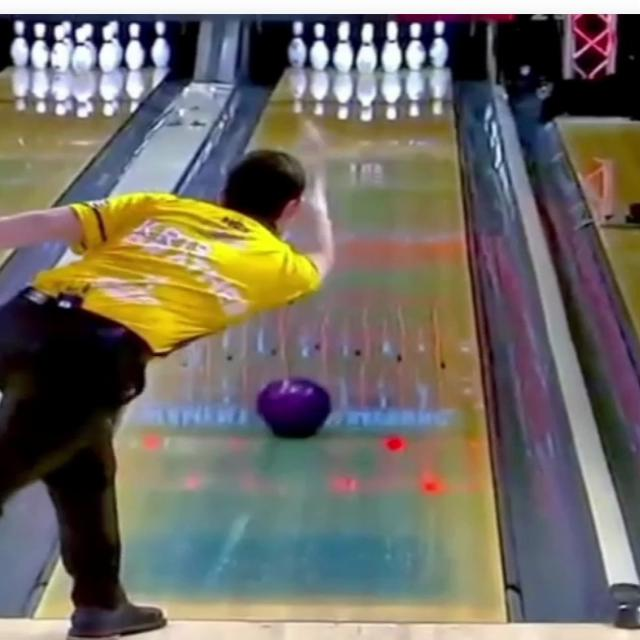alley: (116, 69, 505, 619)
balls: (257, 379, 330, 437)
bottle: (286, 20, 448, 73)
